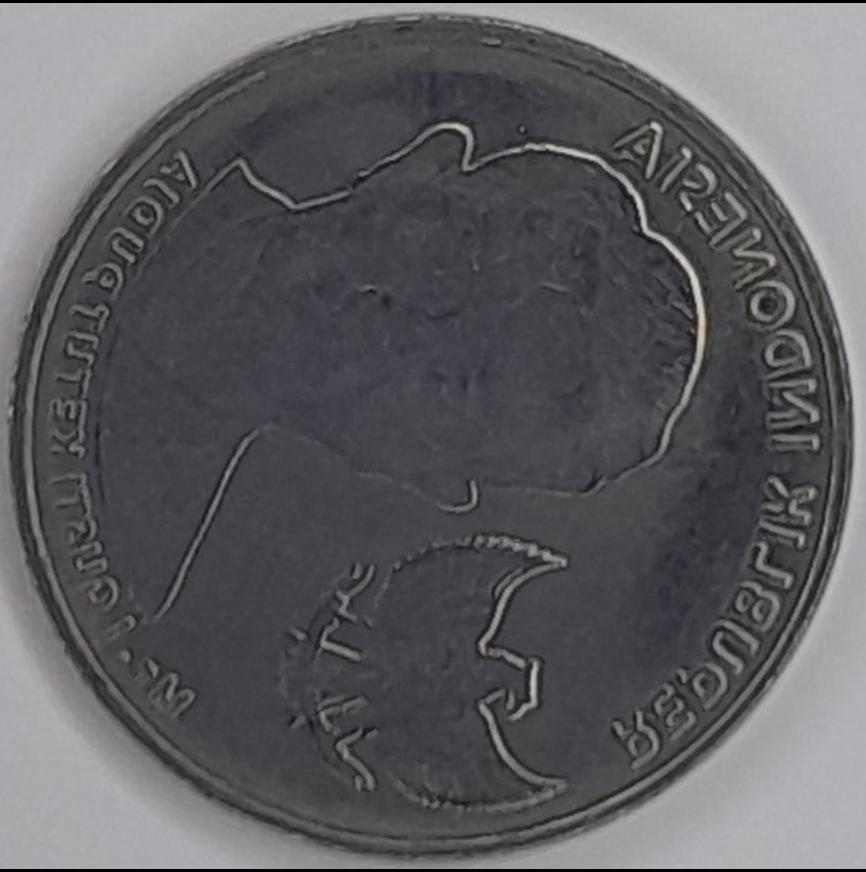coin_1000_e2016: (15, 17, 855, 872)
